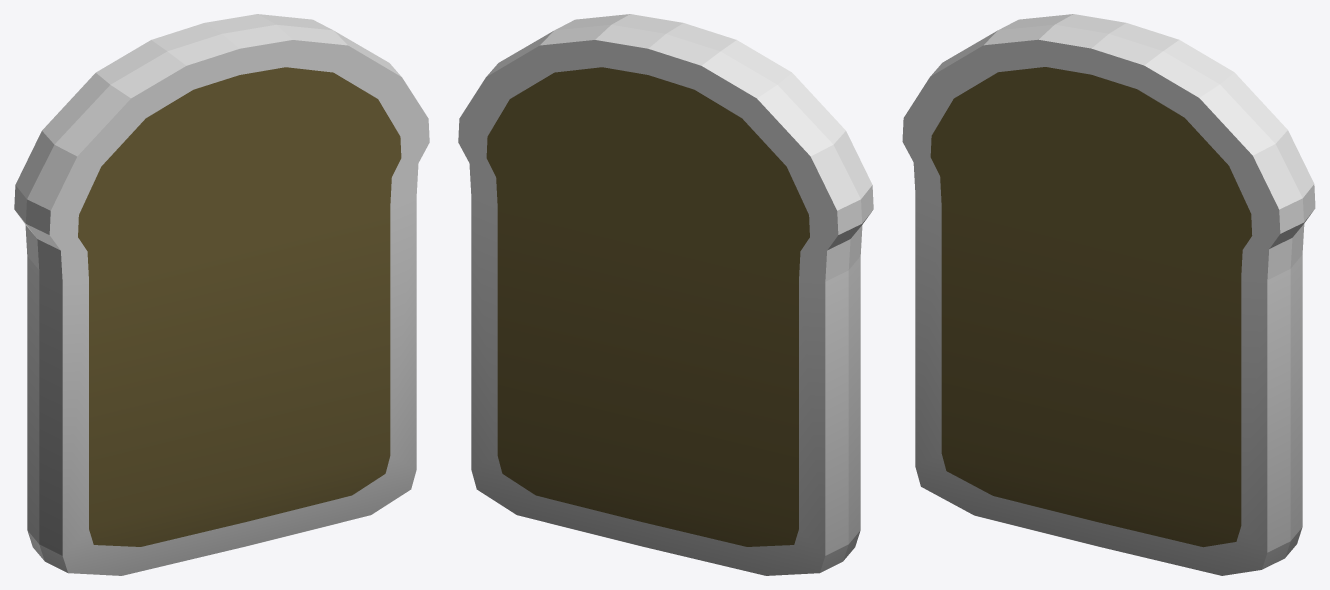
The model's file is pq_tranche_pain.glb.
3 views of the same model, side by side, from view 1: azimuth 30°, elevation 25°; view 2: azimuth 150°, elevation 25°; view 3: azimuth 330°, elevation 25° (orthographic).
Parts seen in each view (by area): view 1: Bread_Slice; view 2: Bread_Slice; view 3: Bread_Slice.
Part boxes in pixels (x1=…): Bread_Slice: x1=14, y1=14, x2=429, y2=575; Bread_Slice: x1=458, y1=14, x2=873, y2=575; Bread_Slice: x1=902, y1=14, x2=1315, y2=575.
Size of the model in its own units: 0.1733 by 0.2118 by 0.0271.
